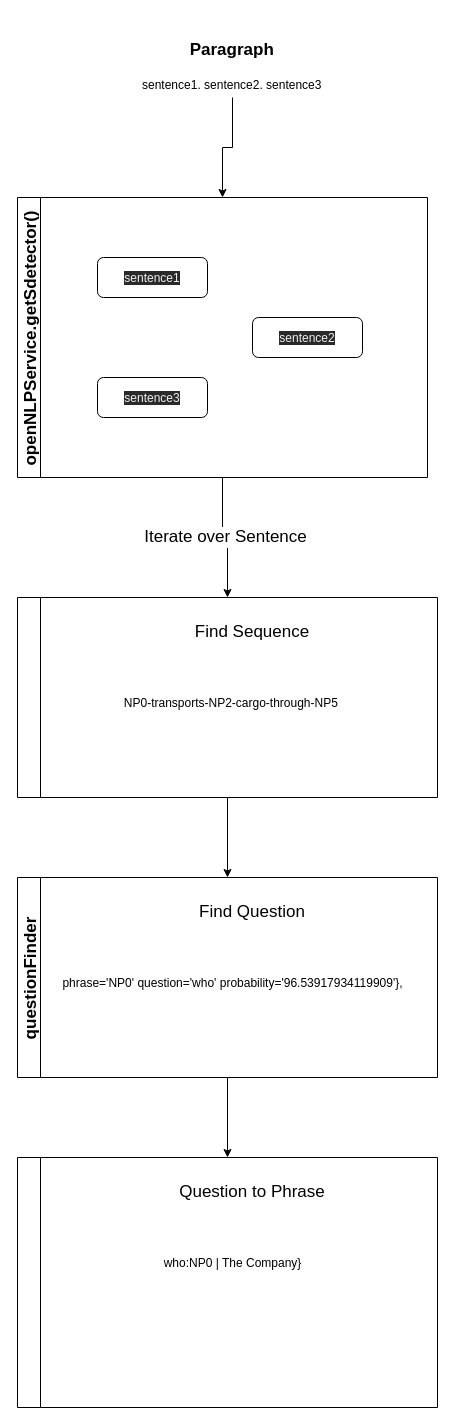
Image size: 455x1425. Some labels were removed from this diagram. The box of each missing label's shape, as (x1, y1, x2, y2) in pixels:
phraseFinder: (16, 596, 438, 798)
questionPhraseAggregator: (16, 1156, 438, 1408)
